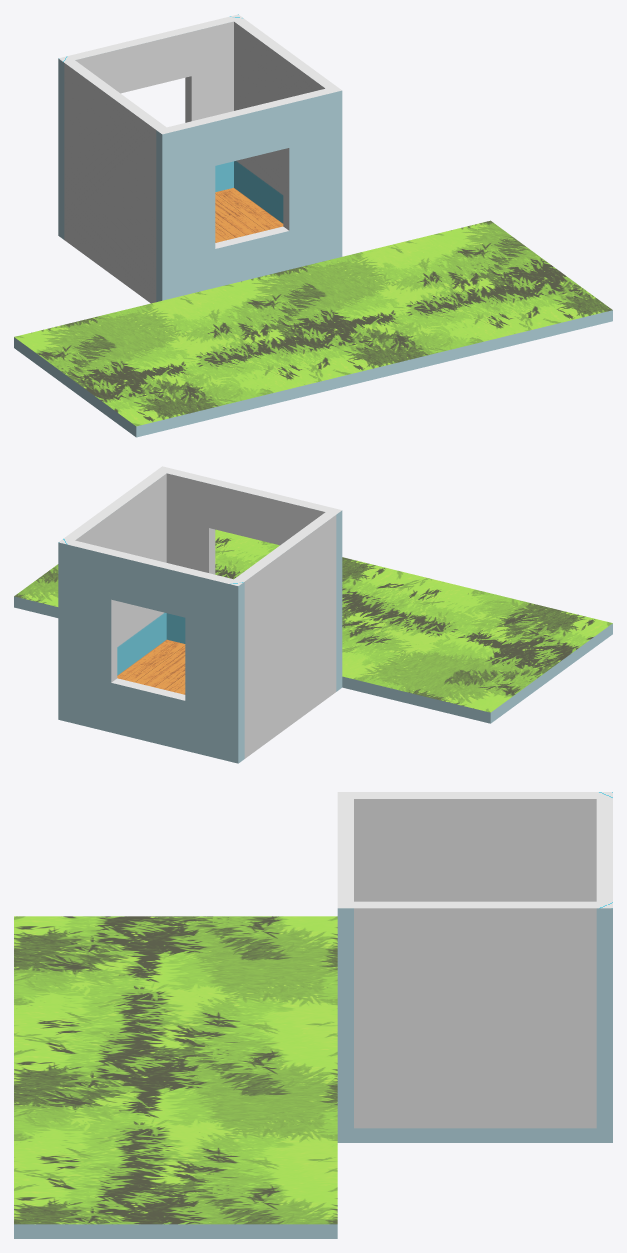
Rendered from RoomEnvironmentV1.fbx.
3 renders of one model, top to bottom at view 1: azimuth 30°, elevation 25°; view 2: azimuth 150°, elevation 25°; view 3: azimuth 270°, elevation 25°, orthographic. The views are drawn at different scales.
Visible parts, largest first — view 1: Room; view 2: Room; view 3: Room.
Part boxes in pixels (box(x1,y1,x2,y2)): Room: box(14, 14, 612, 437); Room: box(14, 466, 612, 763); Room: box(14, 792, 612, 1238).
Size of the model in its own units: 900 by 320 by 740.
Materials: 3 (3 with a texture image).
